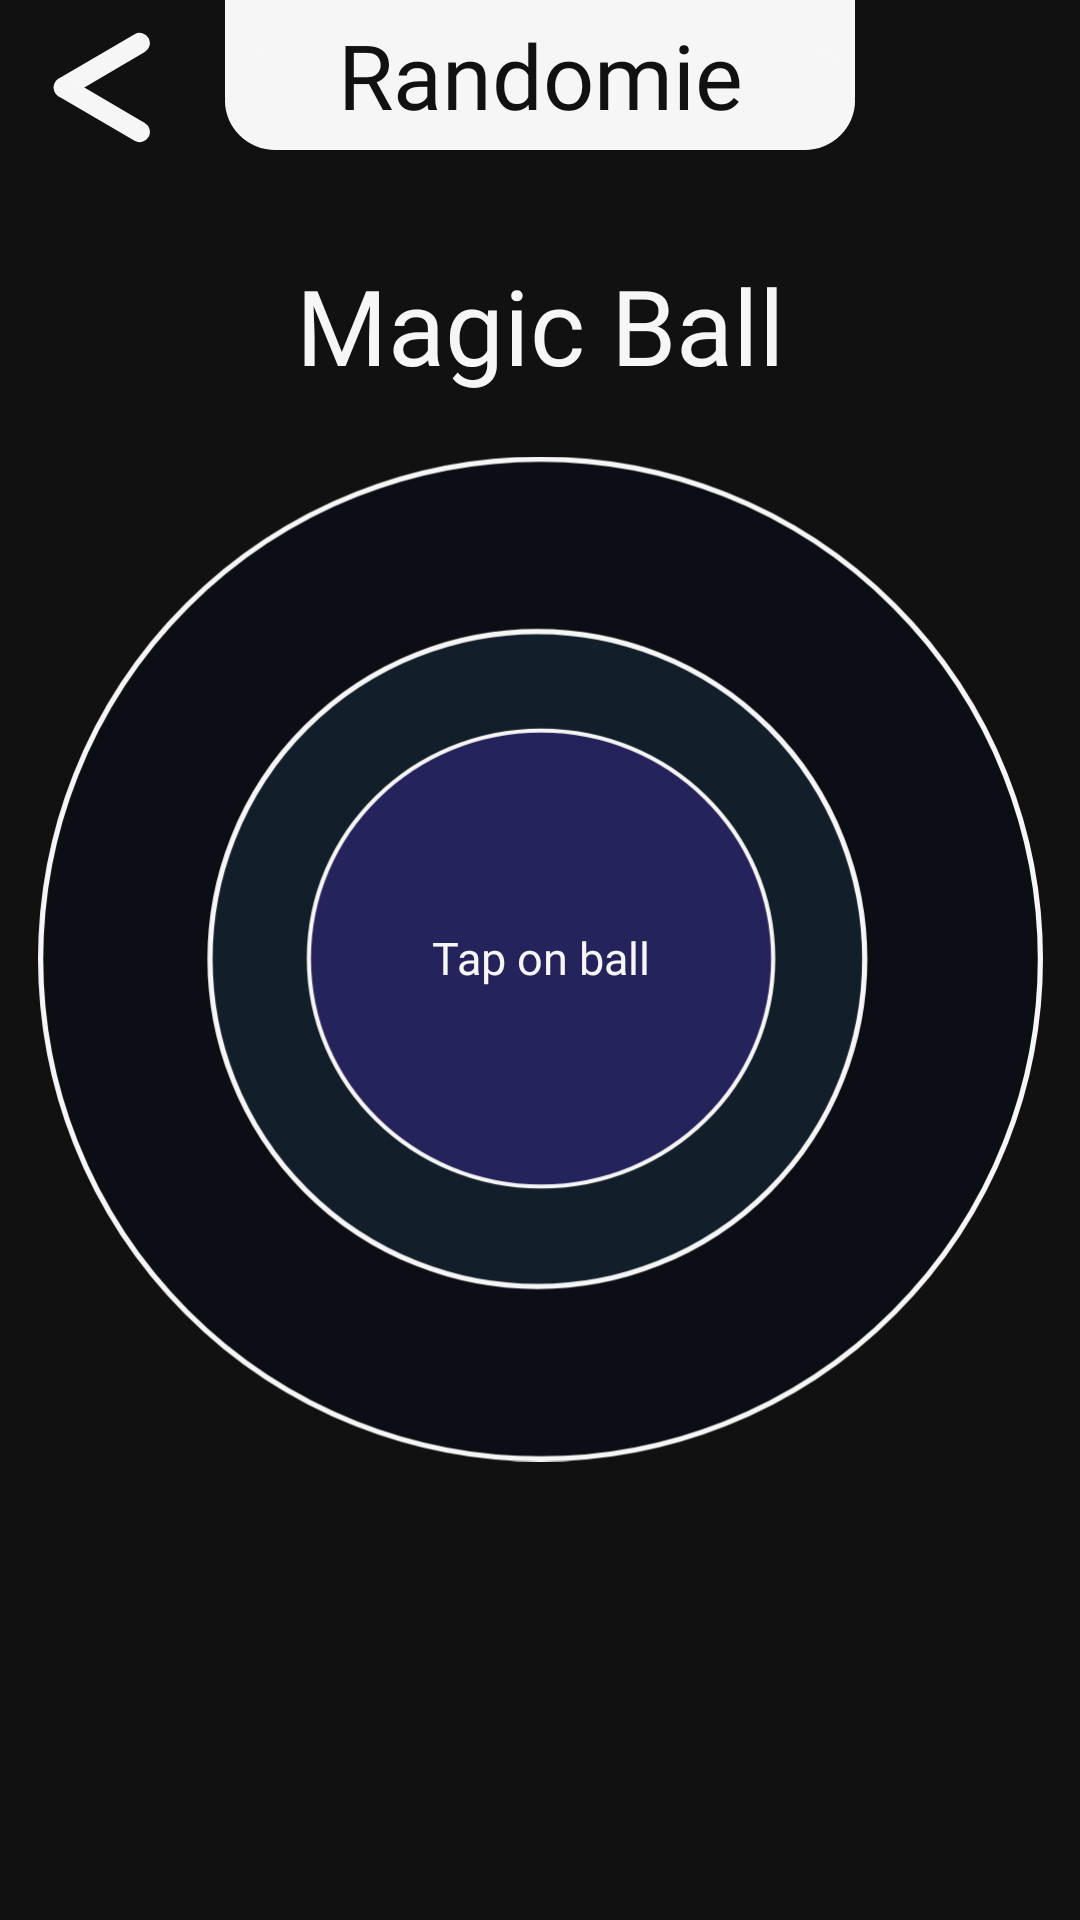

Icon bounding boxes for this 1080×1920 phone screenshot, format box=[x1, y1, x2, y2]:
back: box=[53, 32, 150, 143]
